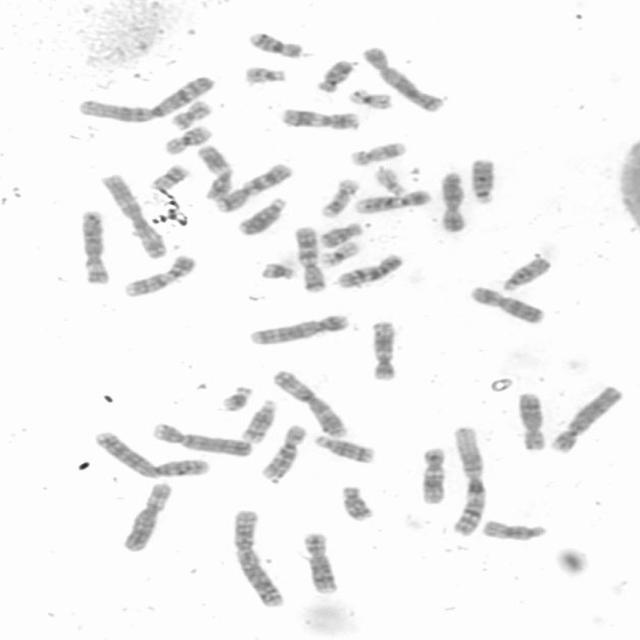A1: (75, 73, 216, 123), (446, 422, 489, 538)
A2: (91, 428, 211, 478), (228, 506, 286, 609)
A3: (97, 171, 169, 259), (269, 365, 349, 437)
B4: (546, 383, 623, 454), (149, 419, 254, 459)
B5: (359, 44, 445, 112), (246, 312, 351, 346)
C10: (256, 421, 307, 483), (333, 251, 405, 290)
C11: (193, 142, 235, 201), (278, 106, 361, 131)
C12: (417, 445, 448, 506), (368, 318, 398, 381)
C6: (120, 479, 174, 553), (77, 207, 111, 286)
C7: (213, 159, 294, 214), (292, 224, 328, 294)
C8: (300, 530, 339, 595), (515, 390, 547, 451)
C9: (120, 252, 198, 298), (353, 188, 433, 215)
D13: (234, 194, 288, 237), (467, 154, 498, 205)
D14: (310, 432, 377, 465), (236, 397, 278, 444)
D15: (498, 253, 552, 293), (479, 516, 549, 542)
E16: (244, 30, 306, 60), (160, 124, 212, 156)
E17: (316, 176, 361, 220), (346, 138, 408, 167)
E18: (336, 482, 376, 523), (314, 56, 356, 93), (316, 220, 364, 248)
F19: (318, 239, 360, 268), (345, 86, 394, 110)
F20: (168, 98, 212, 130), (148, 162, 190, 190)
G21: (217, 383, 254, 413), (258, 260, 298, 282)
G22: (372, 165, 407, 196), (240, 64, 287, 86)
X: (466, 282, 548, 326), (437, 170, 466, 232)
